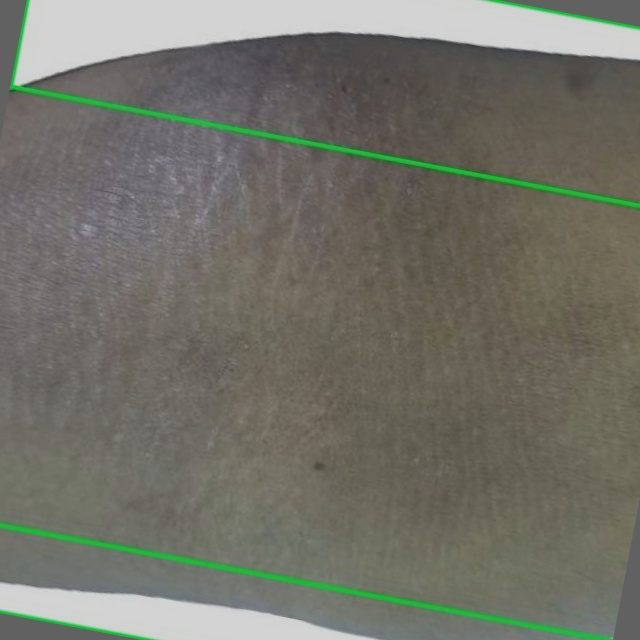Contact Dermatitis: (10, 0, 639, 205)
